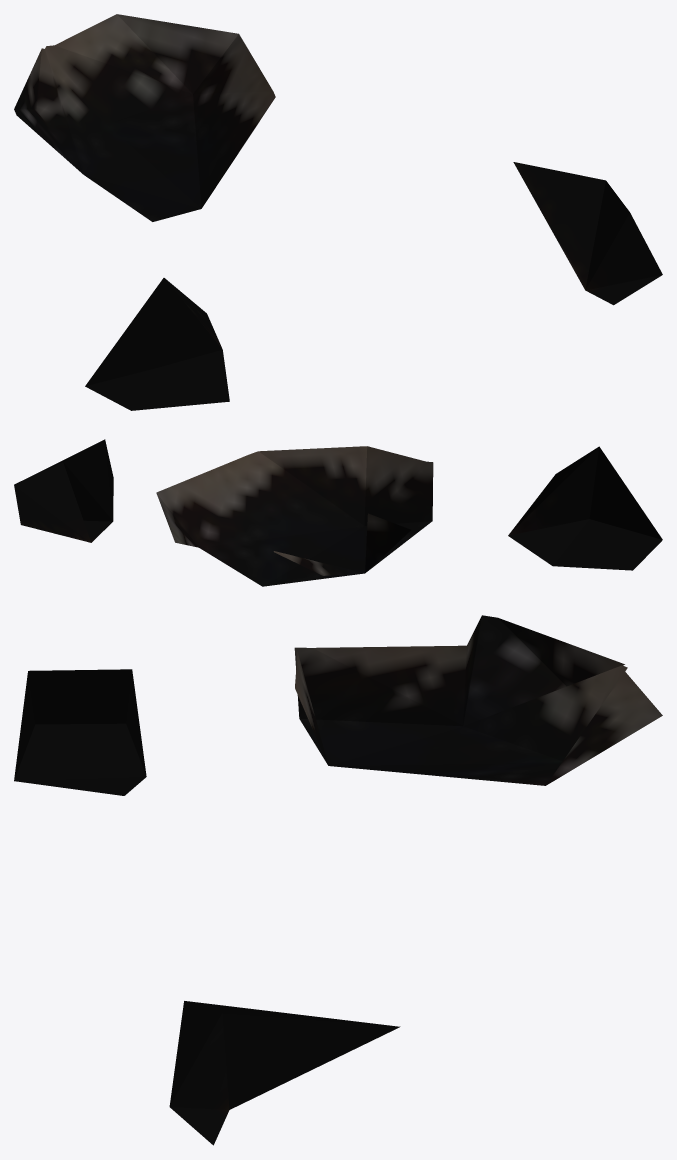
3 views of the same model, one above another, from view 1: azimuth 30°, elevation 25°; view 2: azimuth 150°, elevation 25°; view 3: azimuth 270°, elevation 25° (orthographic). The views are drawn at different scales.
Bounding box in the file's own units: 0.3459 × 0.1109 × 0.2746.
1 material, 1 textured.
